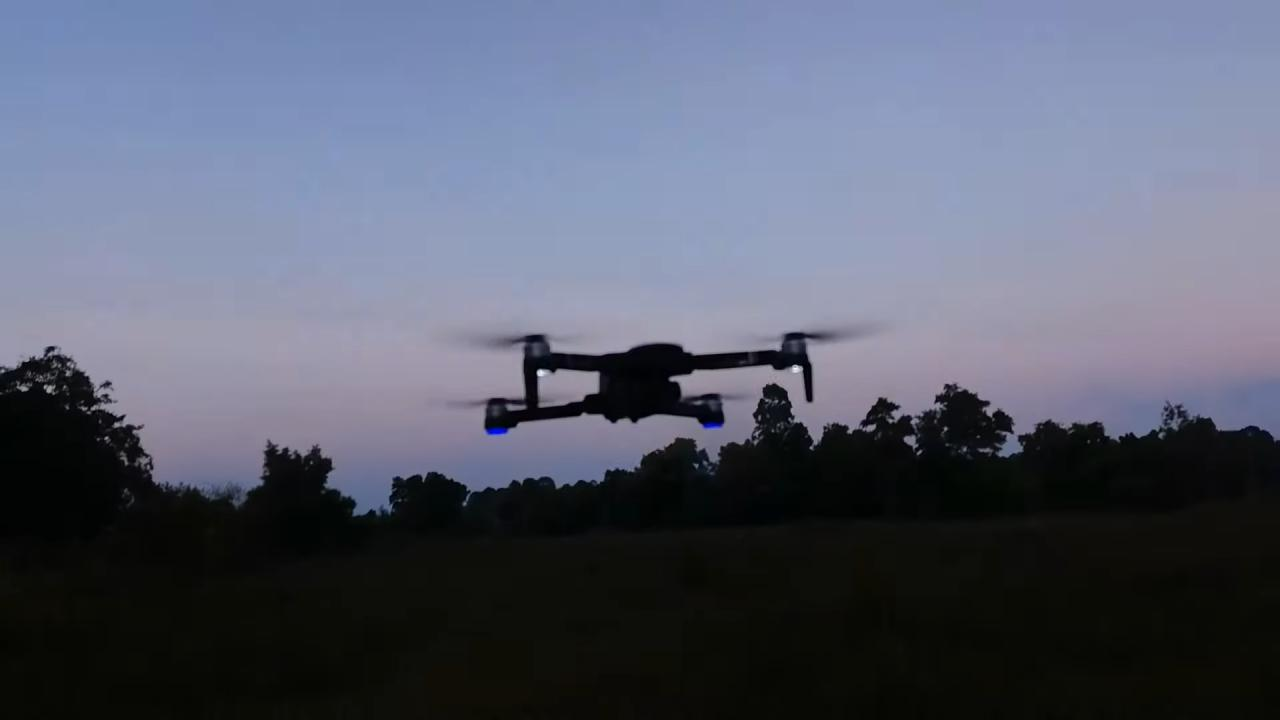Drone: (424, 293, 918, 450)
